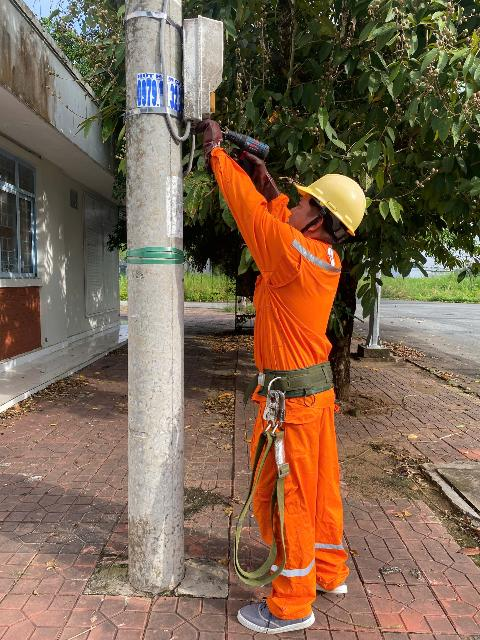gloves: (247, 146, 280, 203), (195, 116, 232, 159)
harness: (253, 359, 342, 400)
helmet: (293, 174, 373, 235)
shoes: (225, 578, 319, 637), (312, 563, 356, 598)
